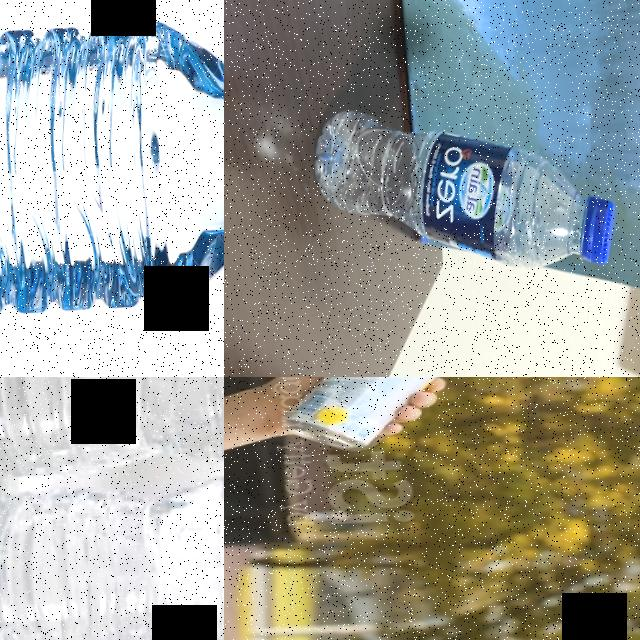bottle: (0, 11, 224, 334), (304, 89, 626, 288), (0, 456, 224, 640), (0, 377, 224, 482)
can: (277, 377, 444, 452)
